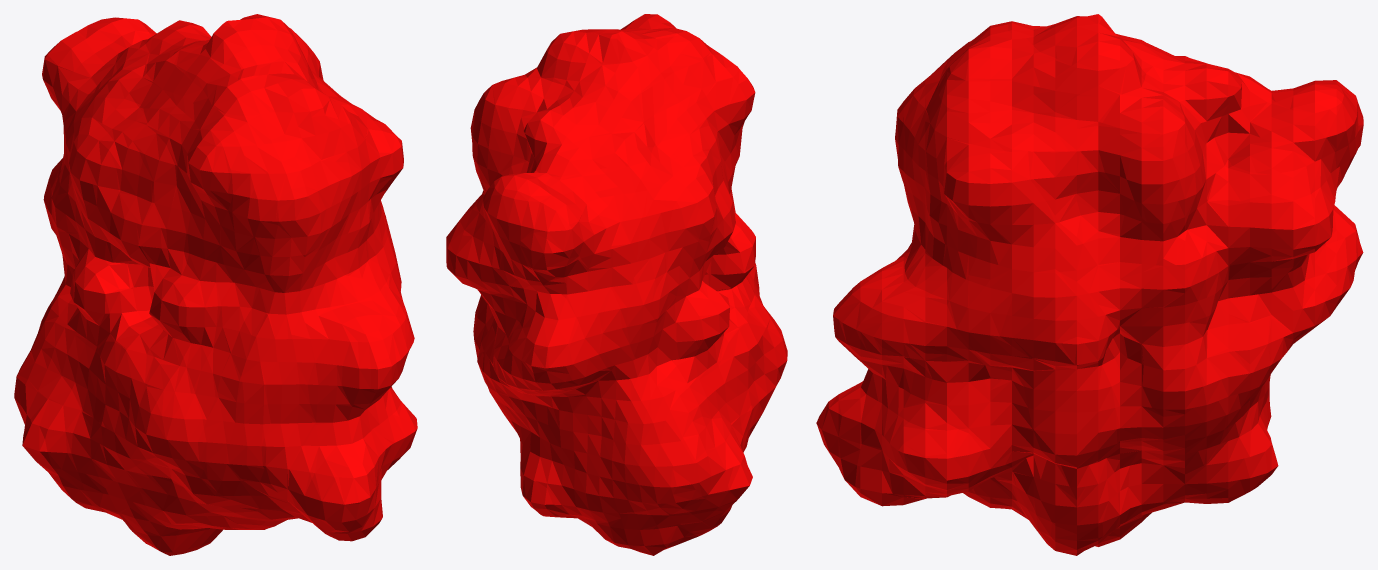
File: efeB_coarse.dae
The picture shows the model from 3 angles, left to right: view 1: azimuth 30°, elevation 25°; view 2: azimuth 150°, elevation 25°; view 3: azimuth 270°, elevation 25°; orthographic projection. The views are drawn at different scales.
Visible parts, largest first — view 1: efeB; view 2: efeB; view 3: efeB.
Part boxes in pixels (<box>): efeB: <box>14,14,417,555</box>; efeB: <box>446,14,787,555</box>; efeB: <box>816,14,1363,555</box>.
Bounding box in the file's own units: 56.45 × 89.55 × 80.93.
